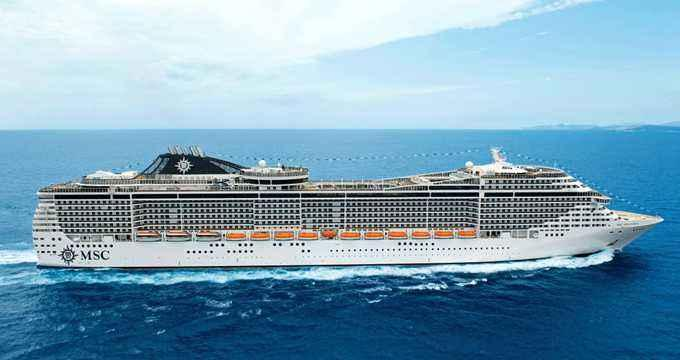youlun: (30, 144, 664, 272)
